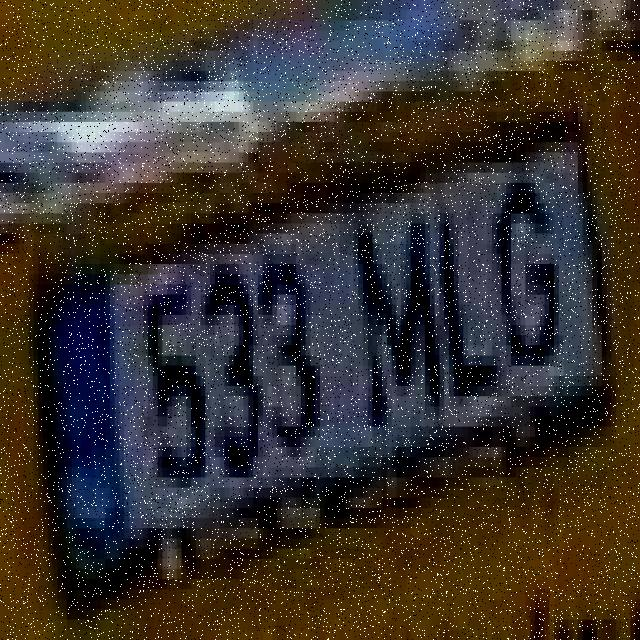licenseplate: (29, 124, 626, 582)
